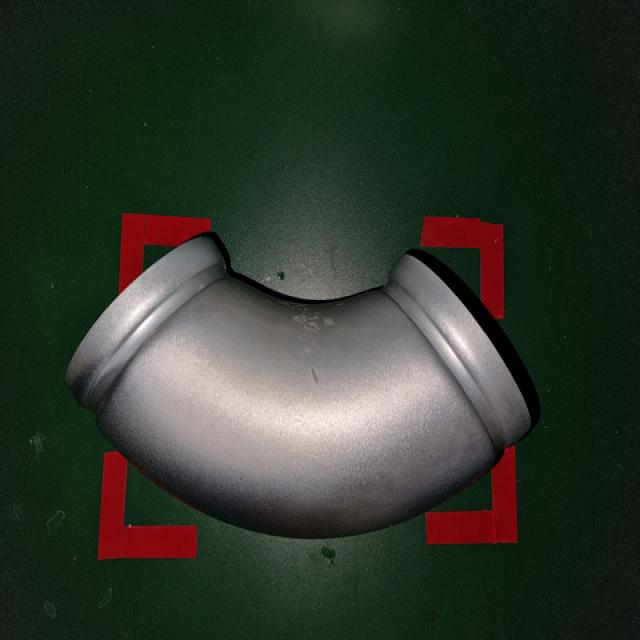Defect: (62, 227, 537, 545)
Hole: (254, 287, 366, 401)
